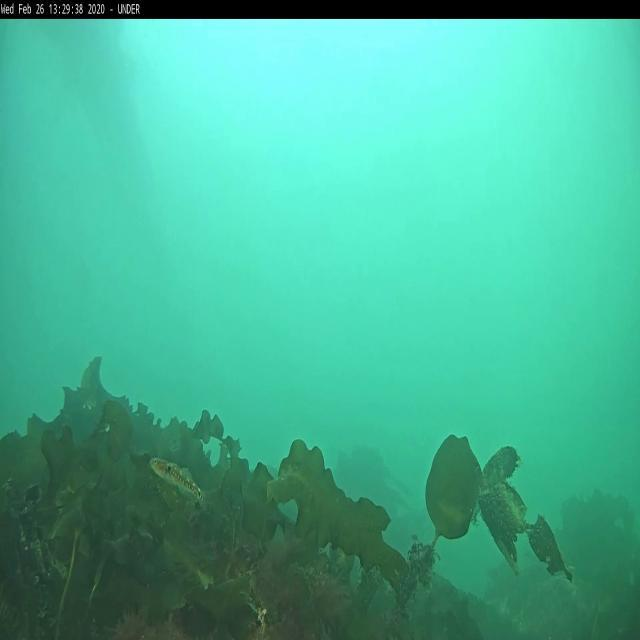fish: (151, 453, 207, 508)
